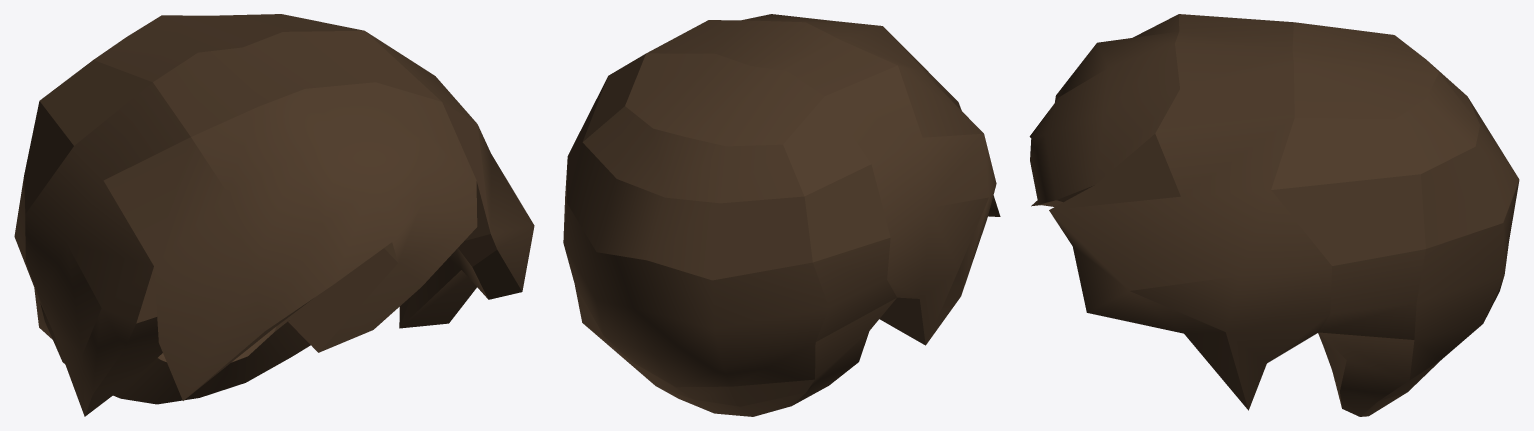
Rendered from Cabello_Corto.fbx.
3 views of the same model, side by side, from view 1: azimuth 30°, elevation 25°; view 2: azimuth 150°, elevation 25°; view 3: azimuth 270°, elevation 25° (orthographic). The views are drawn at different scales.
Visible parts, largest first — view 1: Cabello_Corto; view 2: Cabello_Corto; view 3: Cabello_Corto.
Boxes of the visible parts, x1=… form: Cabello_Corto: x1=14, y1=14, x2=534, y2=416; Cabello_Corto: x1=563, y1=14, x2=1000, y2=416; Cabello_Corto: x1=1029, y1=14, x2=1519, y2=416.
Size of the model in its own units: 3.24 by 2.78 by 3.46.
